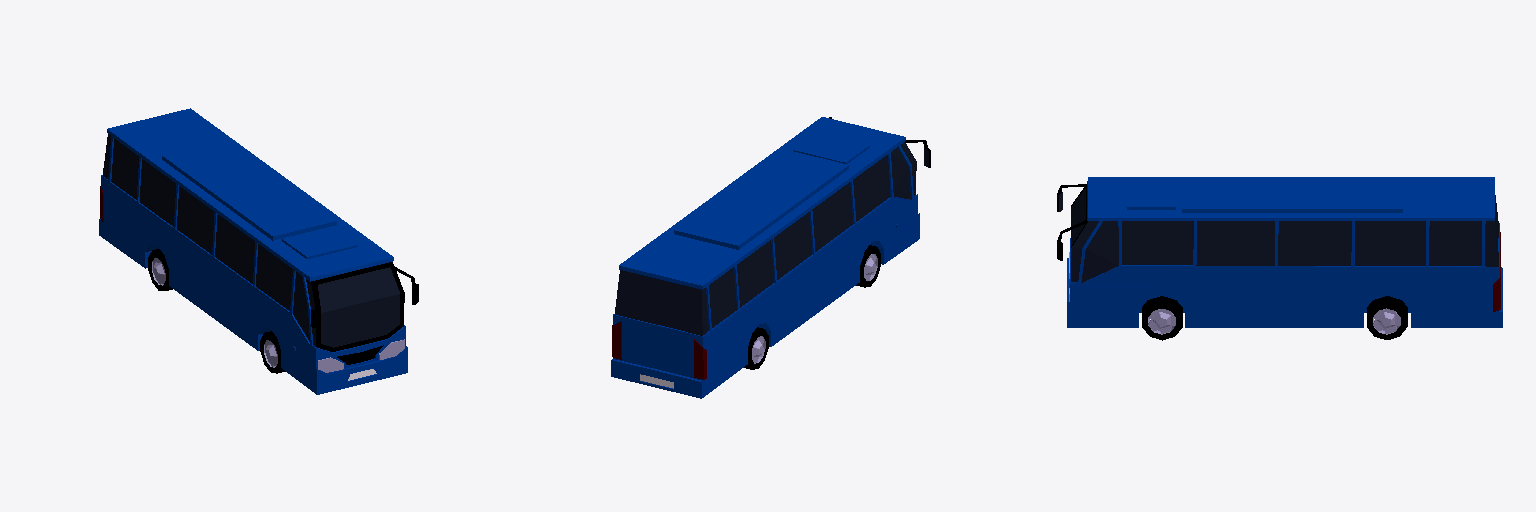
Rendered from bus.obj.
3 views of the same model, side by side, from view 1: azimuth 30°, elevation 25°; view 2: azimuth 150°, elevation 25°; view 3: azimuth 270°, elevation 25° (orthographic).
Visible parts, largest first — view 1: Bus; view 2: Bus; view 3: Bus.
Boxes of the visible parts, x1=… form: Bus: x1=99, y1=108, x2=418, y2=394; Bus: x1=611, y1=117, x2=930, y2=398; Bus: x1=1057, y1=177, x2=1502, y2=340.
Size of the model in its own units: 3.81 by 4.27 by 13.7.